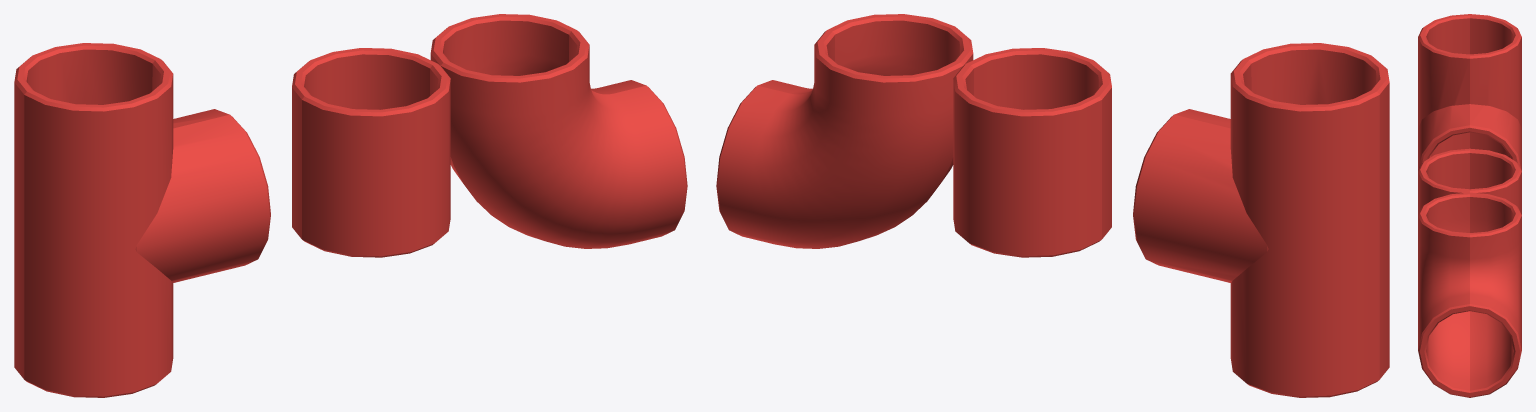
Rendered from GutMeshColl.fbx.
3 views of the same model, side by side, from view 1: azimuth 30°, elevation 25°; view 2: azimuth 150°, elevation 25°; view 3: azimuth 270°, elevation 25° (orthographic). The views are drawn at different scales.
Parts seen in each view (by area): view 1: Tube_T, Tube_Corner, Tube_Straight; view 2: Tube_T, Tube_Corner, Tube_Straight; view 3: Tube_Corner, Tube_T, Tube_Straight.
Part boxes in pixels (x1,y1,x2,y2): Tube_T: (14, 43, 270, 397); Tube_Corner: (430, 14, 687, 248); Tube_Straight: (292, 48, 450, 257); Tube_T: (1133, 43, 1389, 397); Tube_Corner: (716, 14, 973, 248); Tube_Straight: (953, 48, 1111, 257); Tube_Corner: (1418, 192, 1521, 397); Tube_T: (1418, 14, 1521, 170); Tube_Straight: (1418, 148, 1521, 214).
Size of the model in its own units: 900 by 400 by 200.
